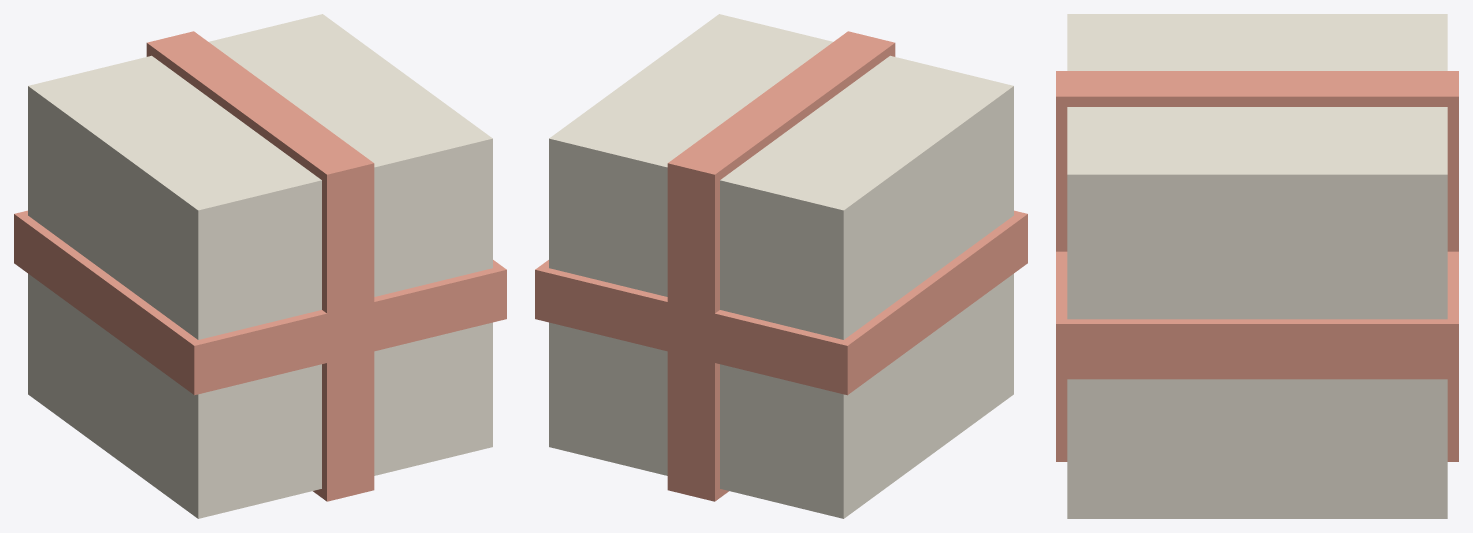
File: powerup_crate.glb
3 renders of one model, left to right at view 1: azimuth 30°, elevation 25°; view 2: azimuth 150°, elevation 25°; view 3: azimuth 270°, elevation 25°, orthographic. The views are drawn at different scales.
Parts seen in each view (by area): view 1: powerup_crate; view 2: powerup_crate; view 3: powerup_crate.
Part boxes in pixels (bbox=[...]): powerup_crate: bbox=[14, 14, 506, 518]; powerup_crate: bbox=[535, 14, 1027, 518]; powerup_crate: bbox=[1056, 14, 1458, 518].
Bounding box in the file's own units: 1.06 × 1.06 × 1.06.
